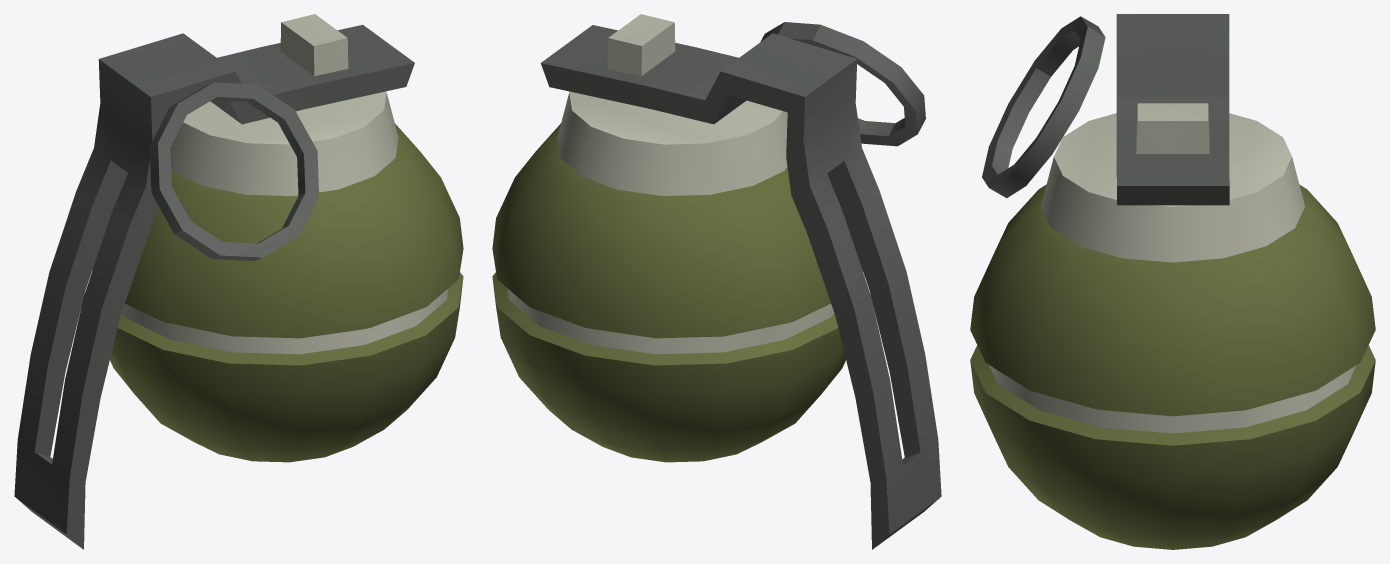
3 renders of one model, left to right at view 1: azimuth 30°, elevation 25°; view 2: azimuth 150°, elevation 25°; view 3: azimuth 270°, elevation 25°, orthographic. The views are drawn at different scales.
Visible parts, largest first — view 1: frag; view 2: frag; view 3: frag.
Part boxes in pixels (x1,y1,x2,y2): frag: [14, 14, 463, 549]; frag: [492, 14, 941, 549]; frag: [970, 14, 1375, 549].
Bounding box in the file's own units: 0.1071 × 0.115 × 0.0872.
Materials: 1 (1 with a texture image).
